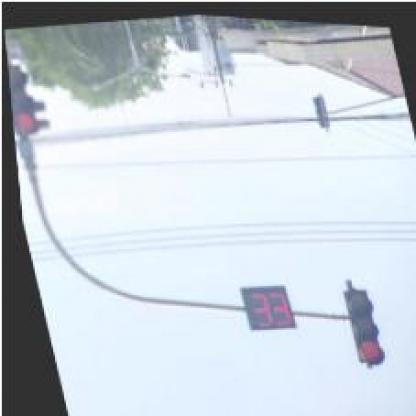red: (336, 282, 380, 359), (5, 61, 36, 133)
